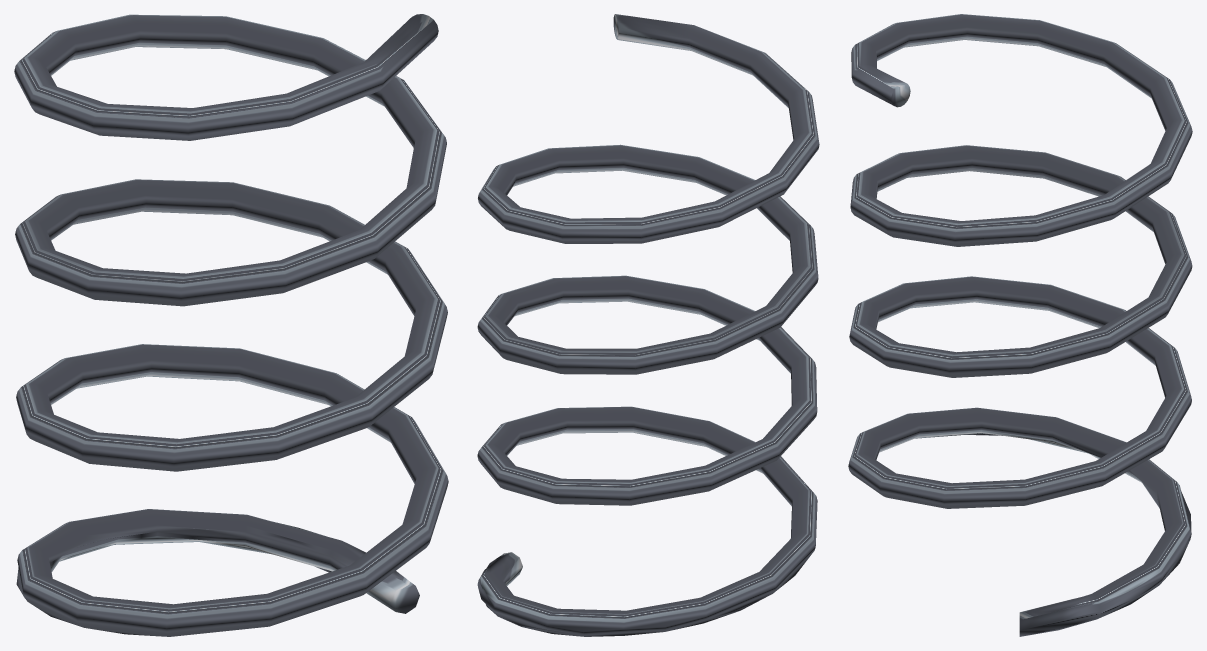
The model's file is spring_wire.glb.
3 views of the same model, side by side, from view 1: azimuth 30°, elevation 25°; view 2: azimuth 150°, elevation 25°; view 3: azimuth 270°, elevation 25° (orthographic). The views are drawn at different scales.
Parts seen in each view (by area): view 1: Wire; view 2: Wire; view 3: Wire.
Part boxes in pixels (left/top/right/bottom): Wire: left=14, top=14, right=448, bottom=636; Wire: left=477, top=14, right=819, bottom=636; Wire: left=848, top=14, right=1192, bottom=636.
Bounding box in the file's own units: 0.5389 × 0.916 × 0.5381.
Materials: 1 (1 with a texture image).
